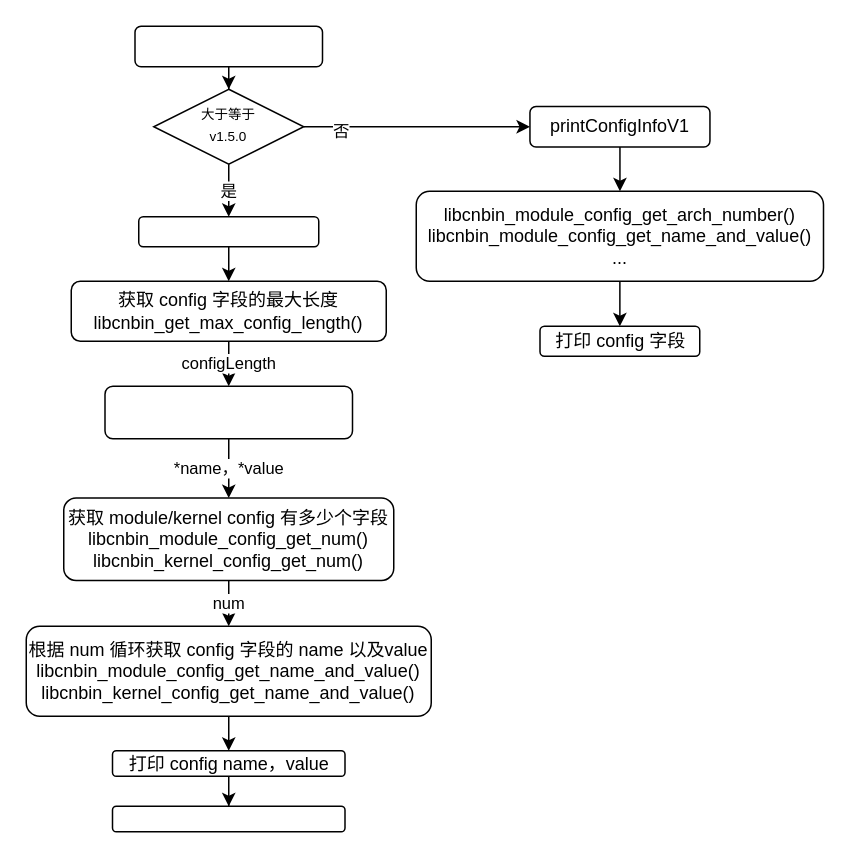
Image size: 851x858. Some labels were removed from this diagram. Each missing label, with the centre of its shape:
libcnbin_get_version(): (x=228, y=46)
printConfigInfoV2: (x=228, y=231)
根据最大长度分配内存 char *name，char *value: (x=228, y=412)
释放 name，value 内存空间: (x=228, y=818)
